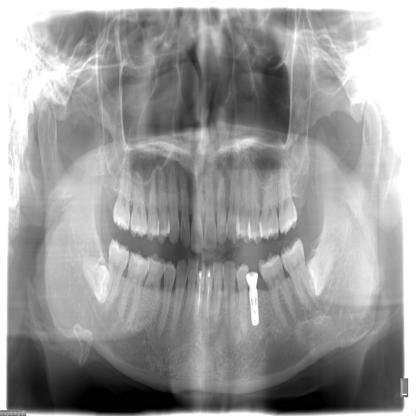ITI: (246, 288, 261, 329)
